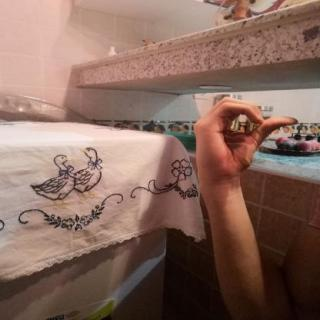WAW: (184, 89, 308, 190)
